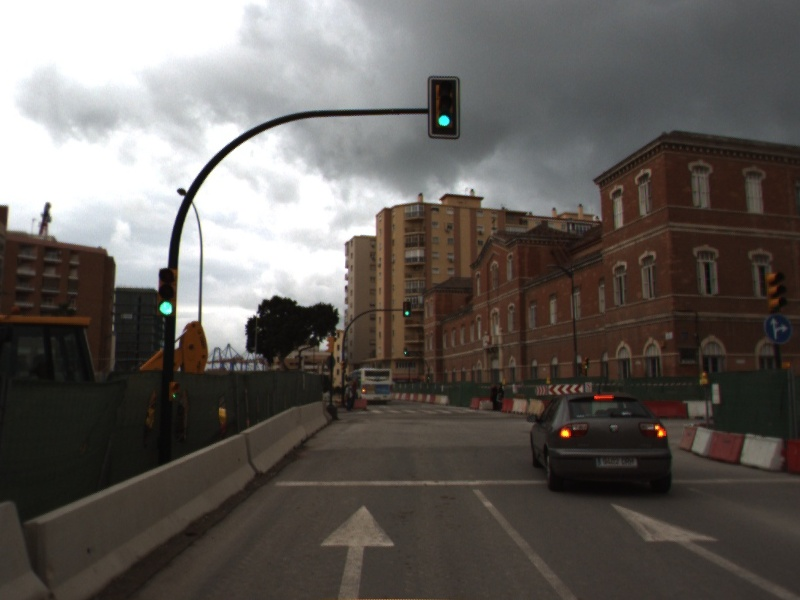STRAIGHT: (608, 500, 800, 600), (317, 502, 398, 600)
